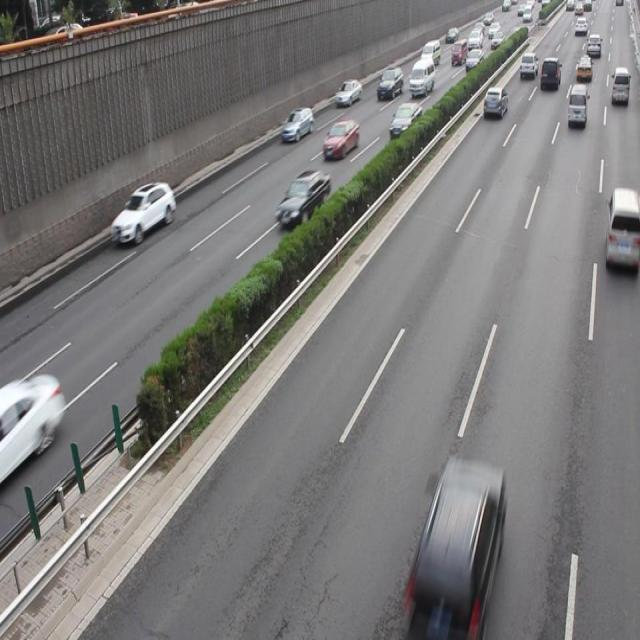car: (410, 457, 503, 627), (1, 376, 62, 482), (110, 179, 176, 244), (275, 168, 331, 226), (322, 117, 359, 160), (279, 105, 313, 143), (388, 102, 421, 140), (481, 86, 507, 118)
truck: (604, 189, 640, 273), (566, 82, 586, 128)
